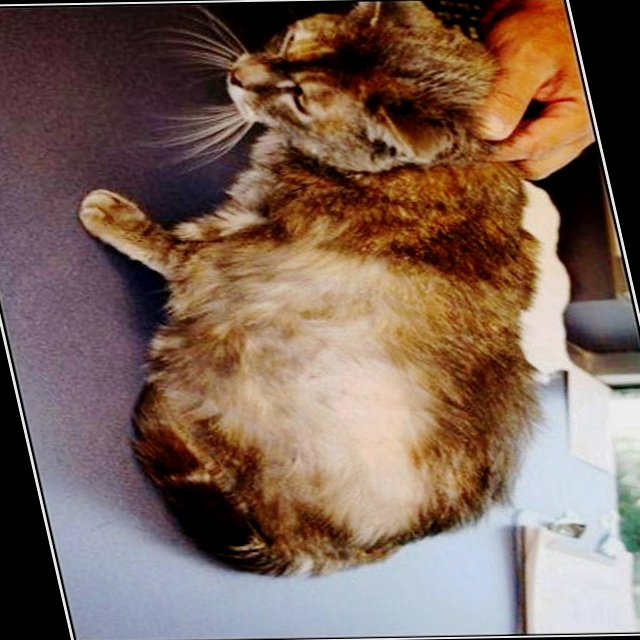hairloss: (298, 339, 447, 528)
